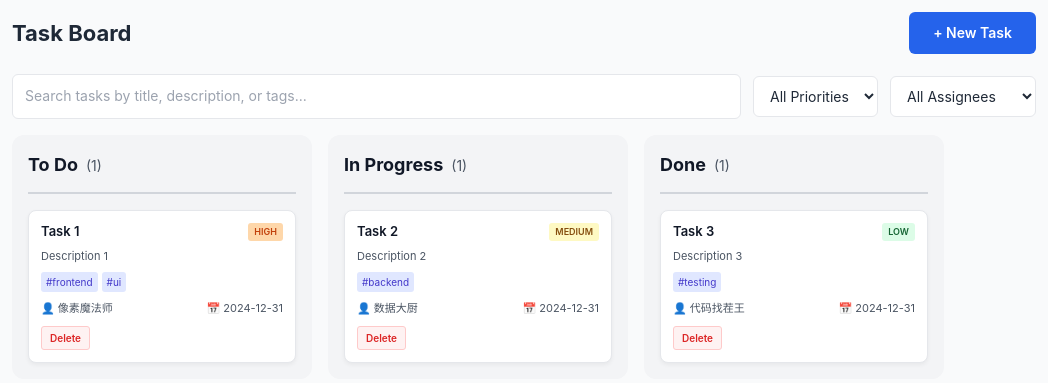
it: TasksView › should clear filters when clicking Clear Filters button
The image size is (1048, 383).
Type "test" into the field with placeholder "Search tasks by title, description, or tags...".
click(376, 97); type("test")  # box x1=12 y1=74 x2=741 y2=119
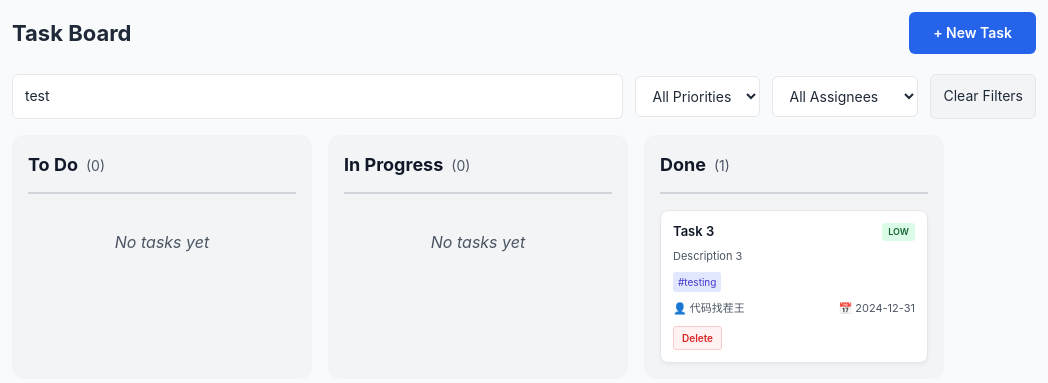
Select "High" in the 1st dropdown at (698, 97), box x1=636 y1=76 x2=760 y2=117
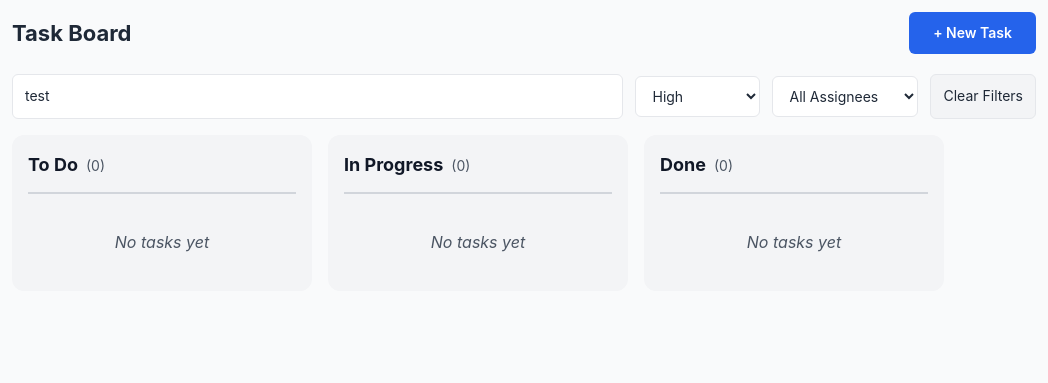
Select "像素魔法师" in the 2nd dropdown at (846, 97), box x1=772 y1=76 x2=918 y2=117
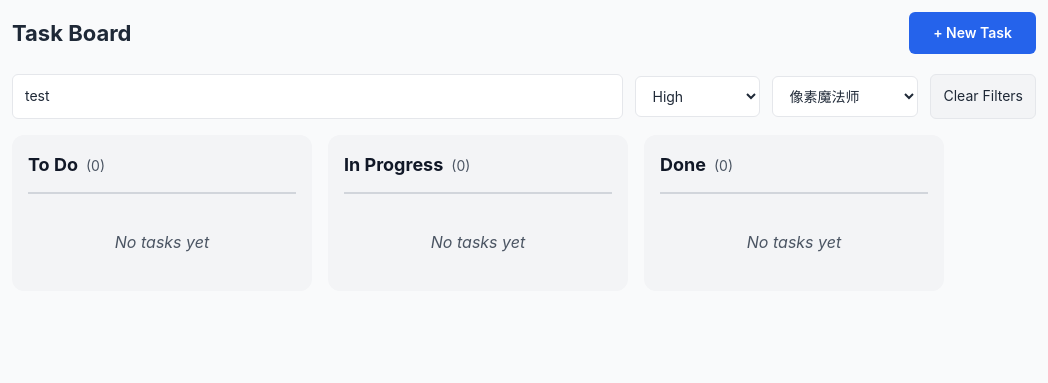
Click the button "Clear Filters".
click(983, 97)  # box x1=930 y1=74 x2=1036 y2=119
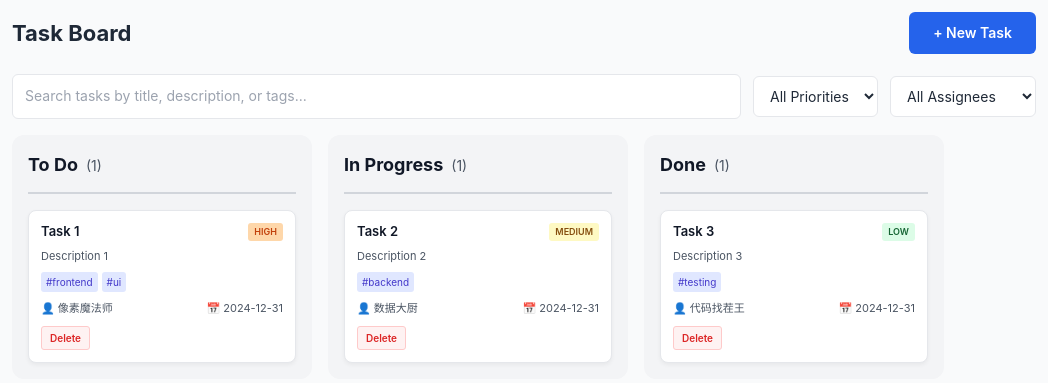
Now the field with placeholder "Search tasks by title, description, or tags..." is empty, box x1=12 y1=74 x2=741 y2=119
